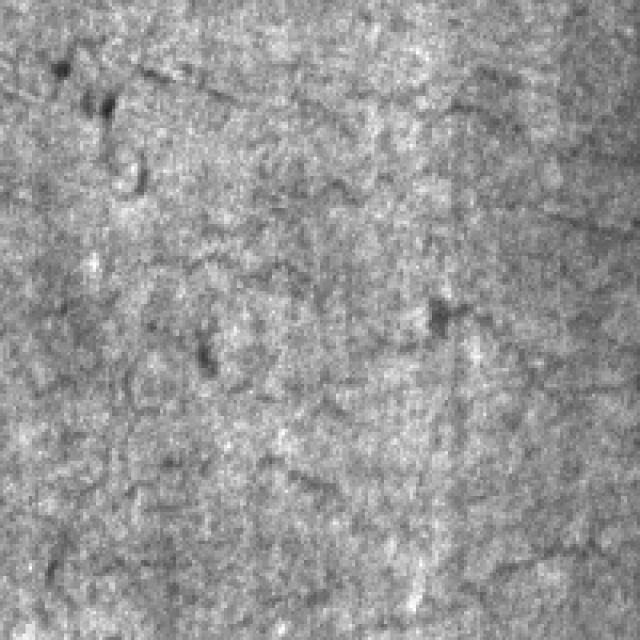crazing: (16, 233, 368, 604), (236, 54, 634, 228)
